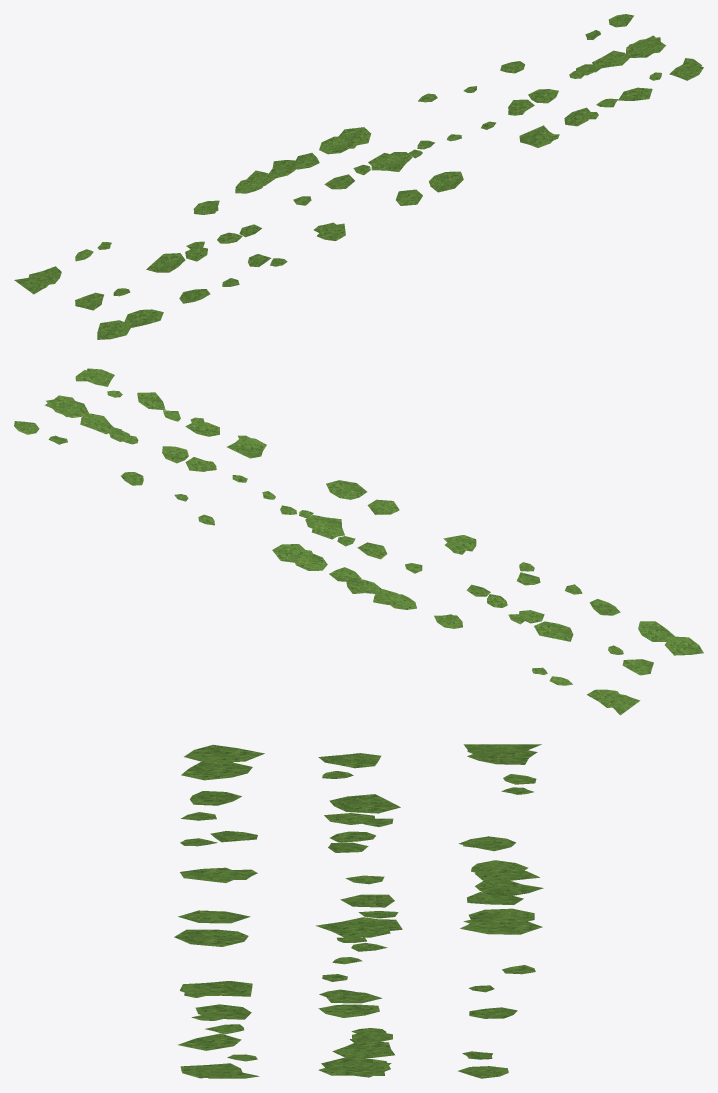
File: kolej_porost_svah_1.glb
3 views of the same model, one above another, from view 1: azimuth 30°, elevation 25°; view 2: azimuth 150°, elevation 25°; view 3: azimuth 270°, elevation 25° (orthographic). The views are drawn at different scales.
Parts seen in each view (by area): view 1: kolej_porost_svah_1; view 2: kolej_porost_svah_1; view 3: kolej_porost_svah_1.
Boxes of the visible parts, x1,y1,x2,y2 form: kolej_porost_svah_1: [14, 14, 703, 339]; kolej_porost_svah_1: [14, 368, 703, 715]; kolej_porost_svah_1: [174, 744, 543, 1078].
Bounding box in the file's own units: 14.84 × 3 × 3.93.
Materials: 1 (1 with a texture image).
